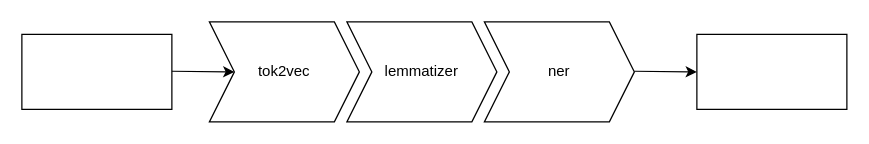
This 869x144 diagram has some shape labels left out. The centre of each missing label's shape, as x and y in pixels:
vstup (text): point (96, 71)
výstup (text s klasifikovanými jmennými entitami): point (771, 71)
